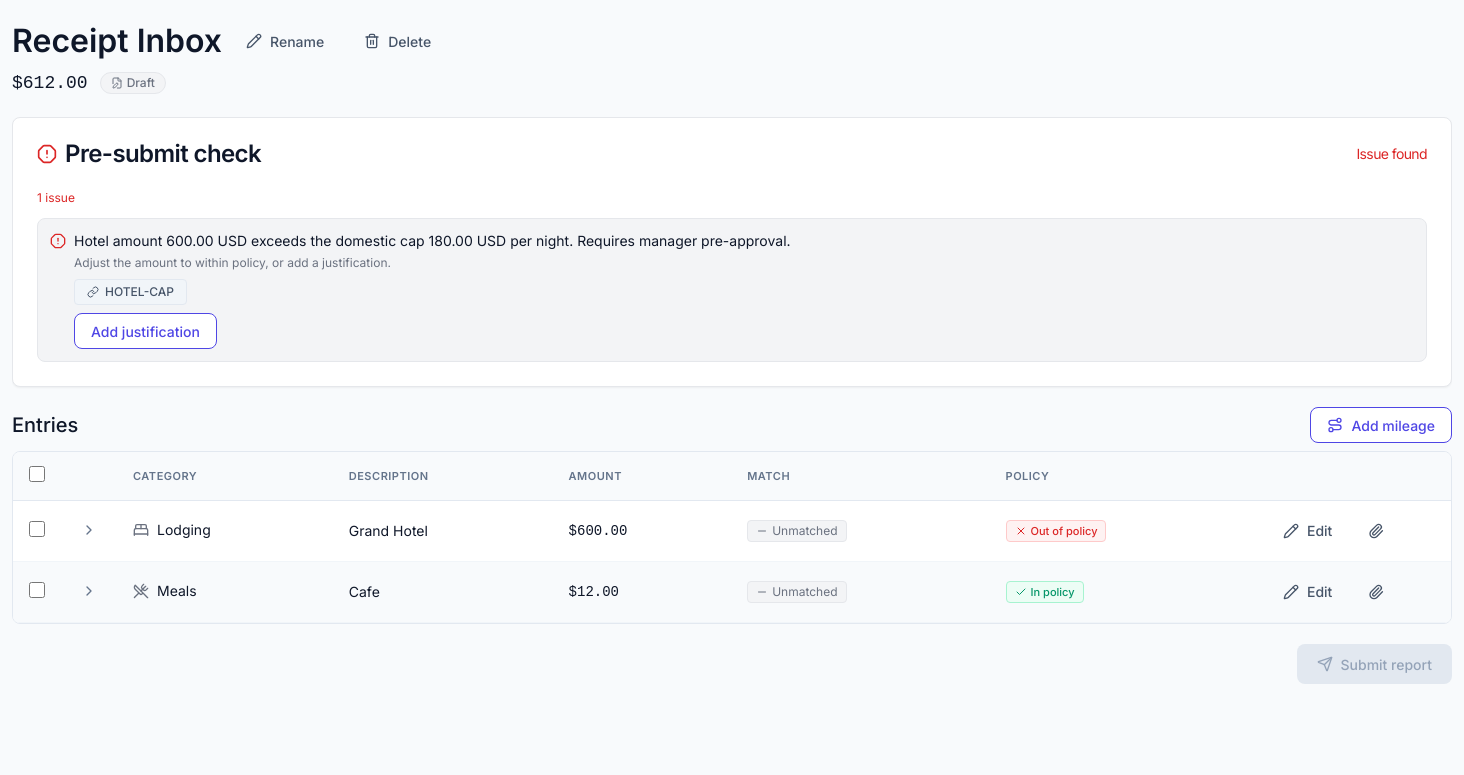
Test: report detail — editable draft (owner) › a justifiable flag offers 'Add justification' and focuses the box
This screenshot has width=1464, height=775.
Expected: the text "Adjust the amount to within policy, or add a justification." is shown, [74,255,391,270]
Click the button "Add justification": (145, 331) [74,313,217,349]
(page scrolled)
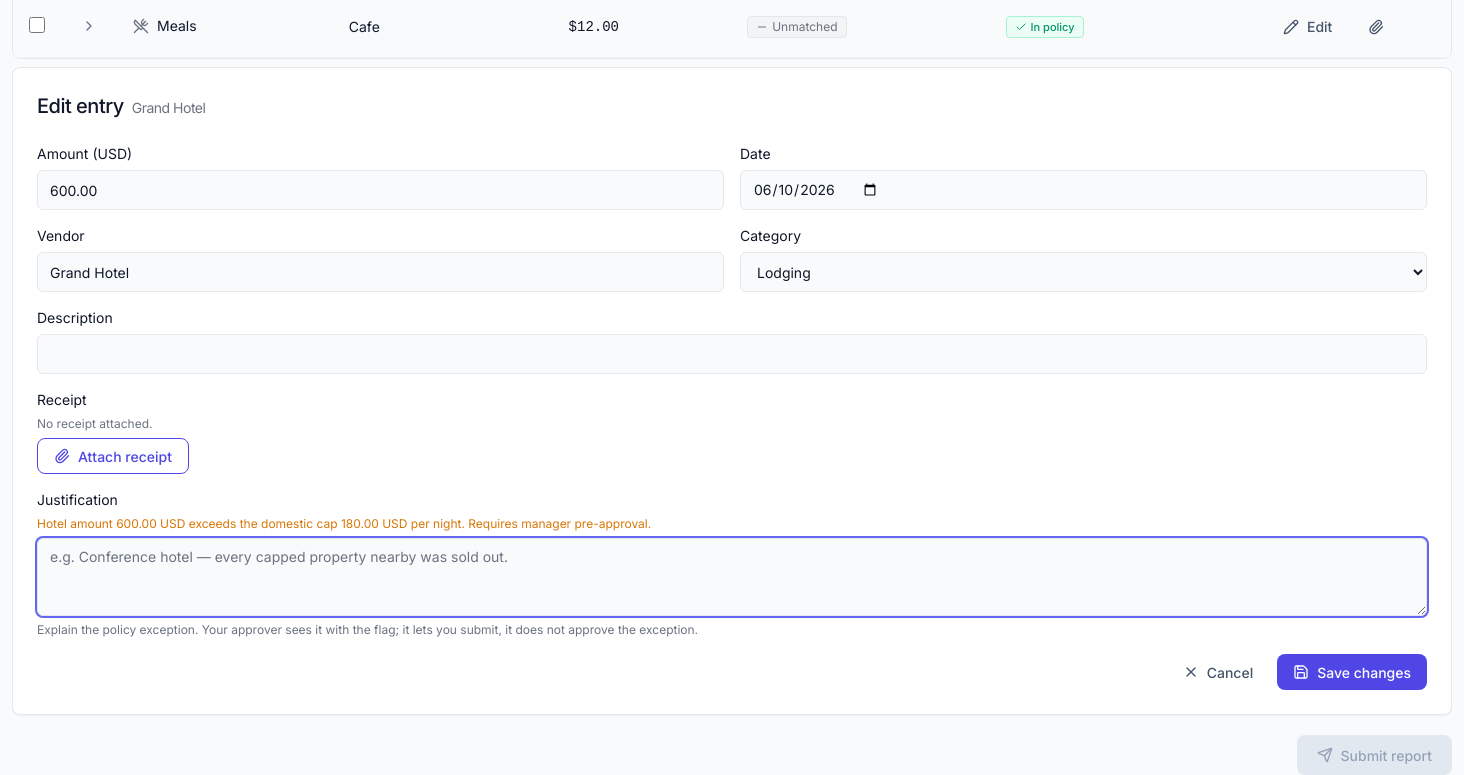
Expected: the list item "Hotel amount 600.00 USD exceeds the domestic cap 180.00 USD per night. Requires manager pre-approval." is shown, [37,516,651,531]
